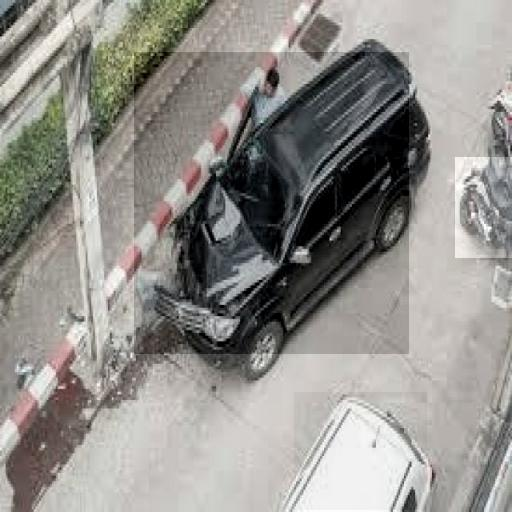小汽车: (294, 392, 427, 510)
小汽车撞物: (134, 52, 409, 354)
自行车: (455, 157, 512, 258)
